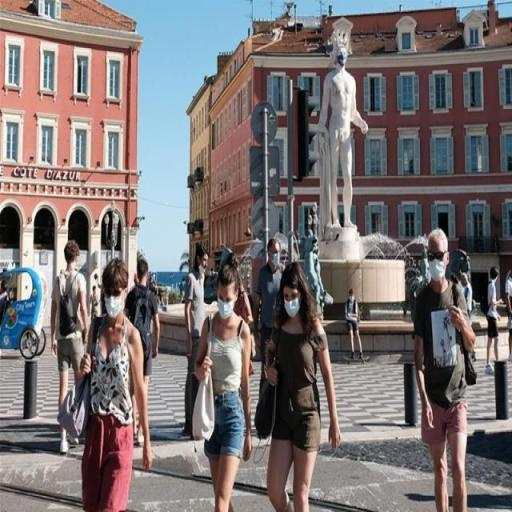person: (266, 264, 343, 512), (83, 260, 154, 512), (415, 230, 476, 512), (197, 258, 254, 512), (55, 240, 86, 453), (128, 260, 162, 449), (185, 248, 211, 437), (256, 242, 289, 378), (481, 269, 505, 375), (461, 273, 478, 363), (346, 288, 365, 363), (504, 270, 512, 361), (91, 288, 101, 320)
